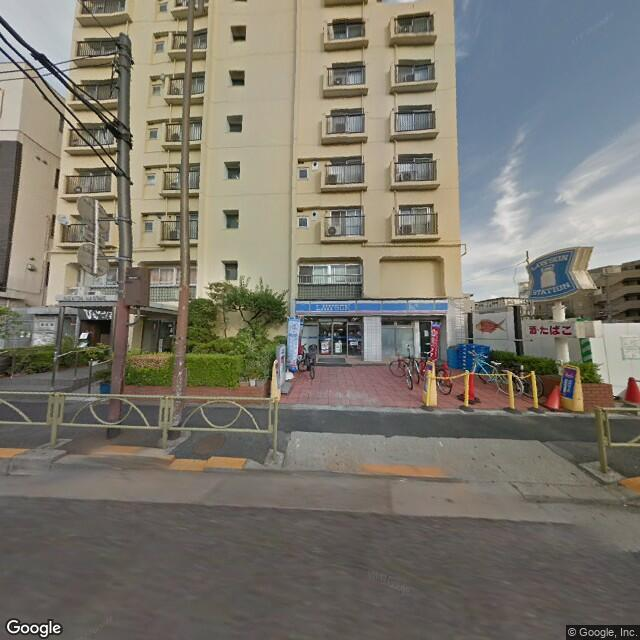lawson: (525, 241, 583, 311), (295, 296, 449, 318)
